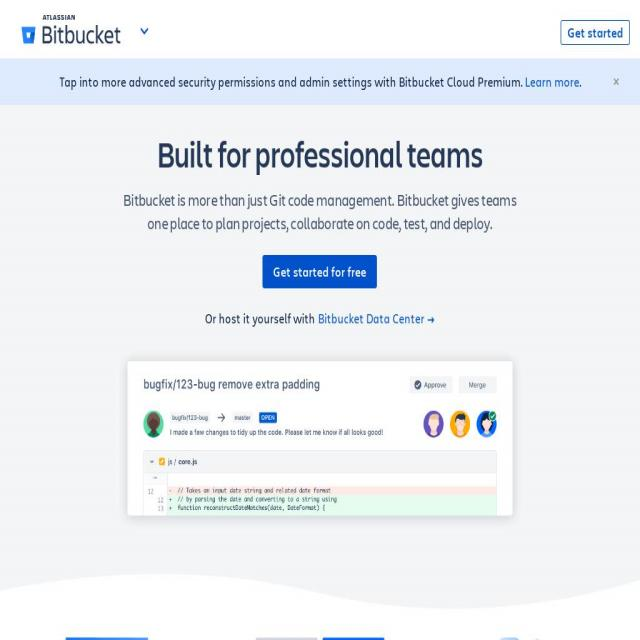options: (136, 22, 154, 45)
sign-up-option: (254, 245, 382, 297), (560, 17, 630, 53)
